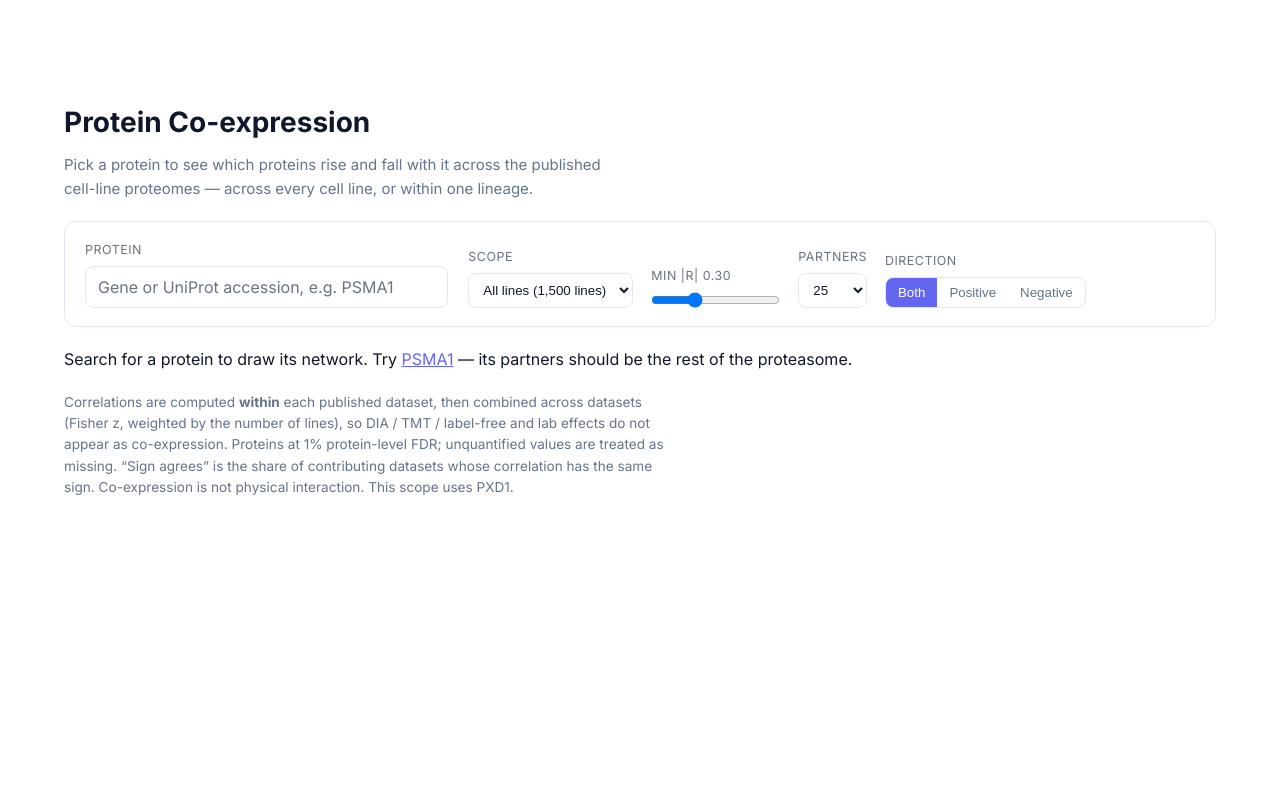
Test: Coexpression view › shows a retryable error when a network fails, and does not cache the failure
Click the button with class "linkish" at (428, 360), box [402,347,454,372]
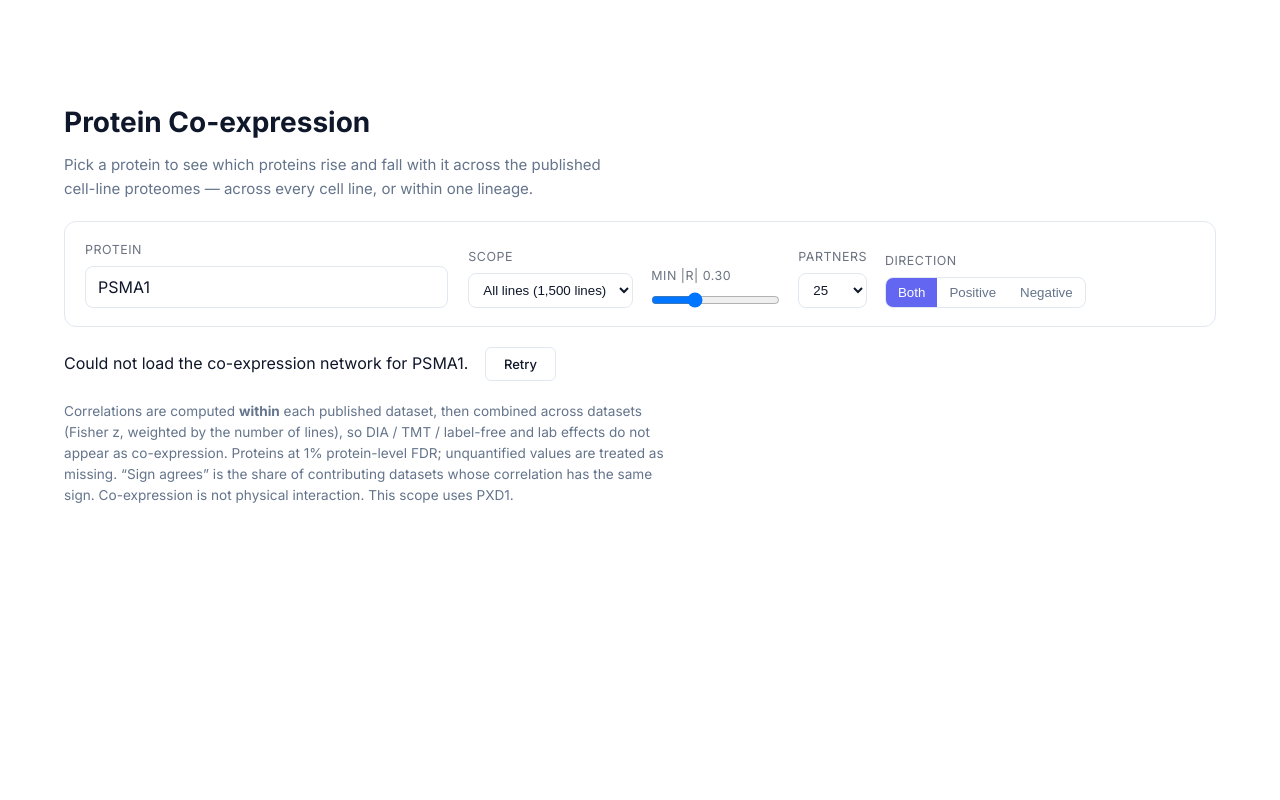
Check: the text "Could not load the co-expression network for PSMA1" is shown, box [64,353,473,373]
Click the button "Retry" at (520, 364), box [485,347,556,381]
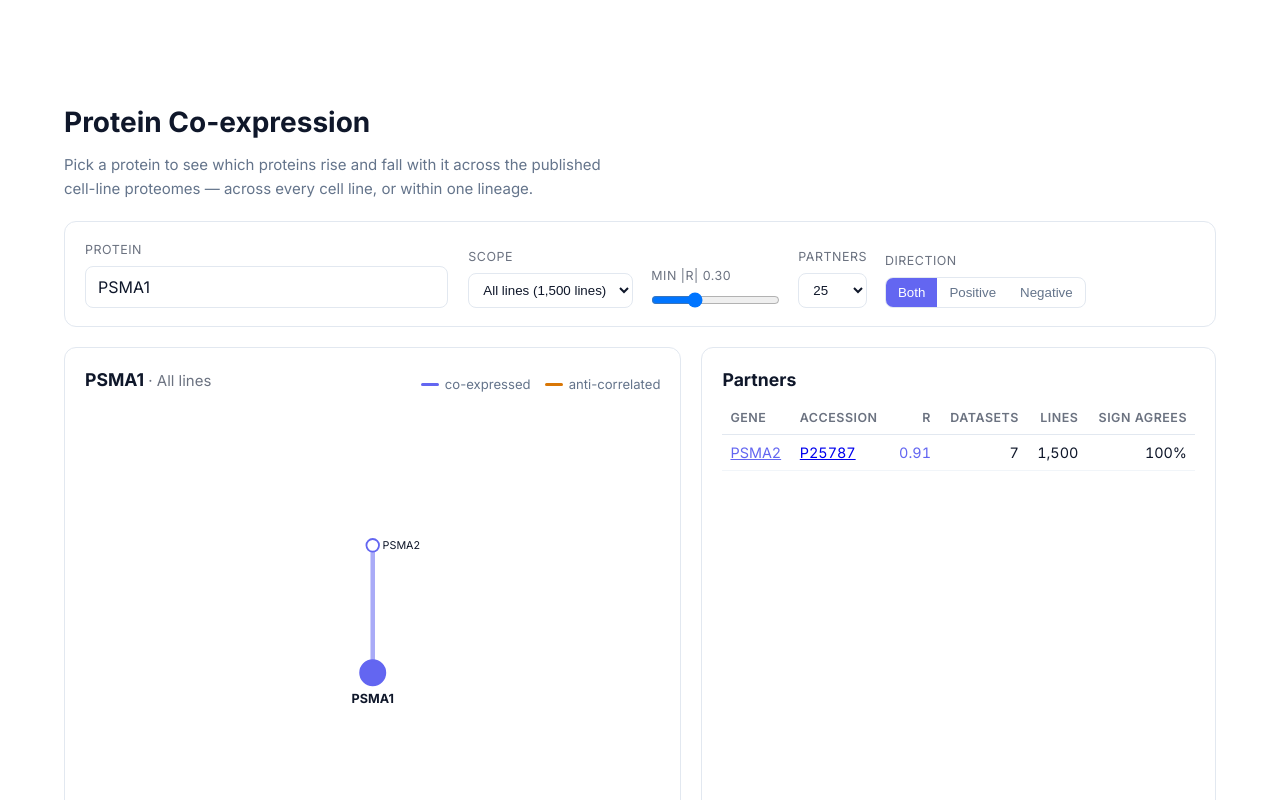
Check: the text "Could not load" is gone
Check: the table shows "PSMA2", box [730,441,781,464]
